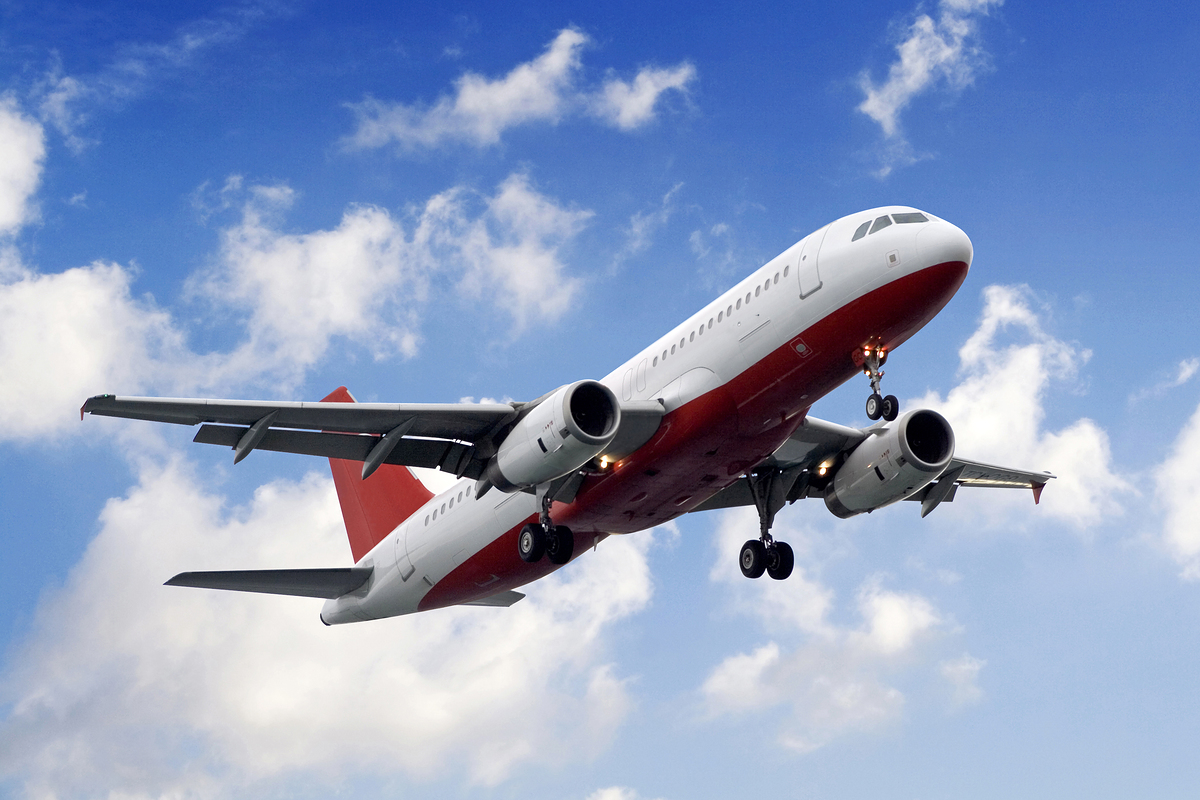aeroplane: (74, 197, 1060, 625)
